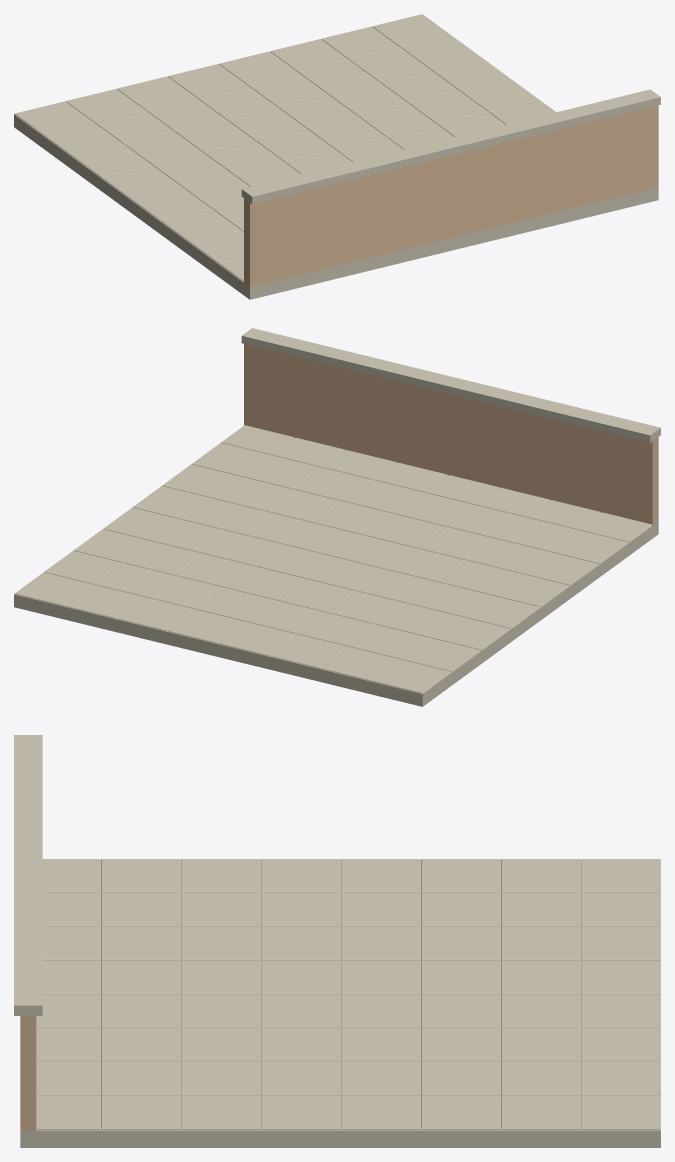
The model's file is district-1-2-0.glb.
3 renders of one model, top to bottom at view 1: azimuth 30°, elevation 25°; view 2: azimuth 150°, elevation 25°; view 3: azimuth 270°, elevation 25°, orthographic. The views are drawn at different scales.
Parts seen in each view (by area): view 1: stone.007, plaster.006; view 2: stone.007, plaster.006; view 3: stone.007, plaster.006.
Part boxes in pixels (x1,y1,x2,y2): stone.007: (14,14,660,299); plaster.006: (244,105,658,286); stone.007: (14,328,660,706); plaster.006: (244,344,658,525); stone.007: (14,735,660,1147); plaster.006: (20,1016,36,1130).
Size of the model in its own units: 8 by 1.96 by 8.08.
